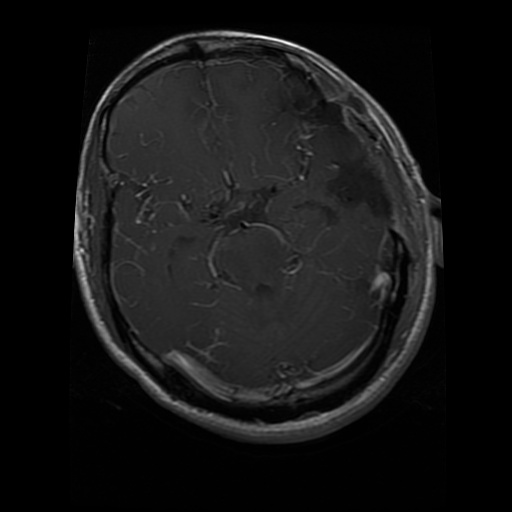glioma: (325, 155, 390, 220)
